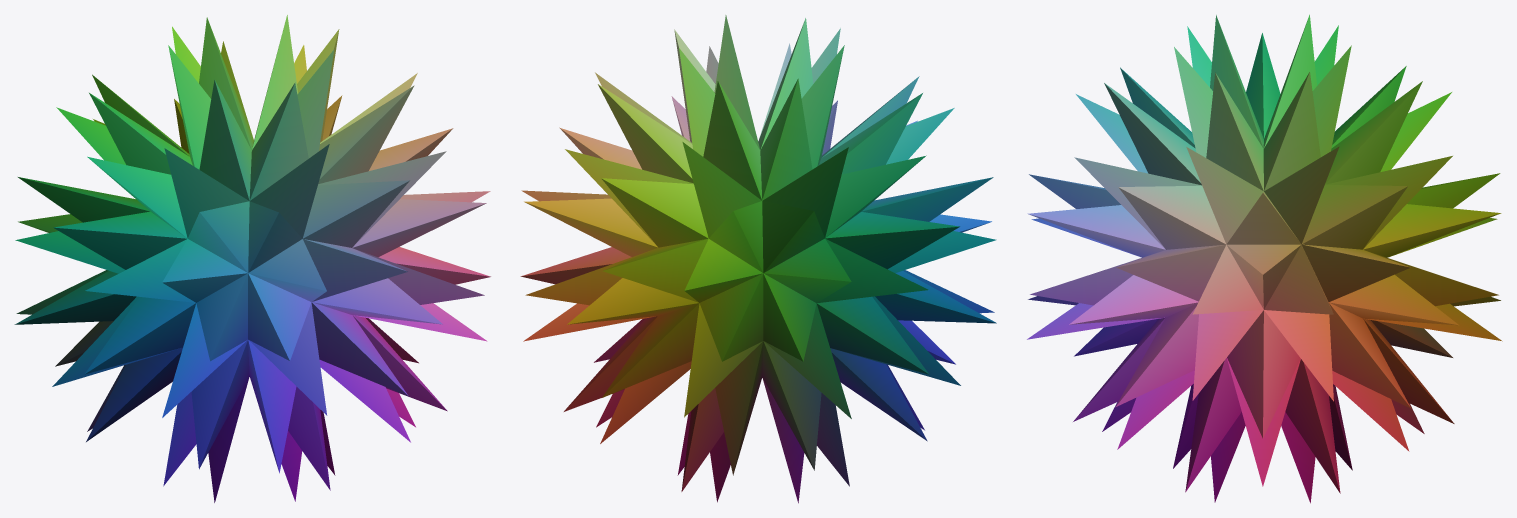
3 views of the same model, side by side, from view 1: azimuth 30°, elevation 25°; view 2: azimuth 150°, elevation 25°; view 3: azimuth 270°, elevation 25° (orthographic).
Parts seen in each view (by area): view 1: anim_10_neg10_10.005; view 2: anim_10_neg10_10.005; view 3: anim_10_neg10_10.005.
Boxes of the visible parts, x1,y1,x2,y2 form: anim_10_neg10_10.005: (14,15,490,502); anim_10_neg10_10.005: (520,15,996,503); anim_10_neg10_10.005: (1027,14,1502,503).
Size of the model in its own units: 0.4991 by 0.5 by 0.4994.
